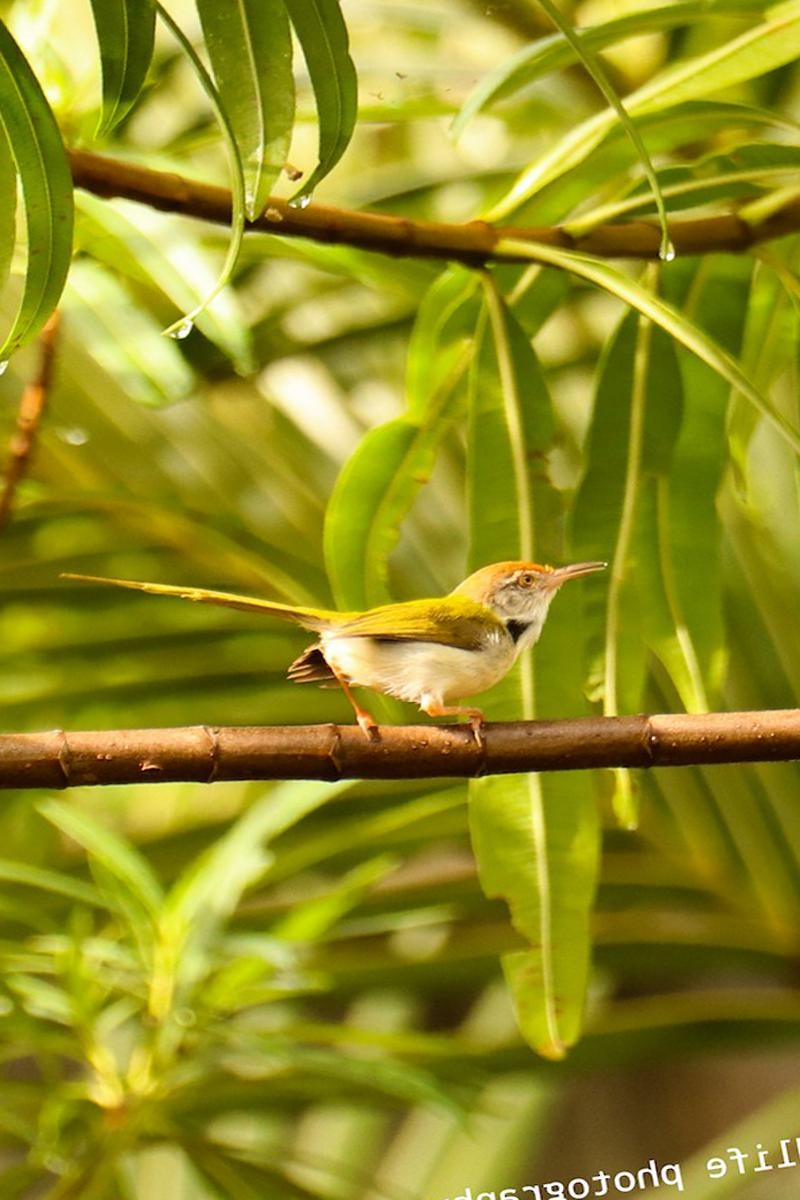tailorbird: (33, 527, 638, 746)
